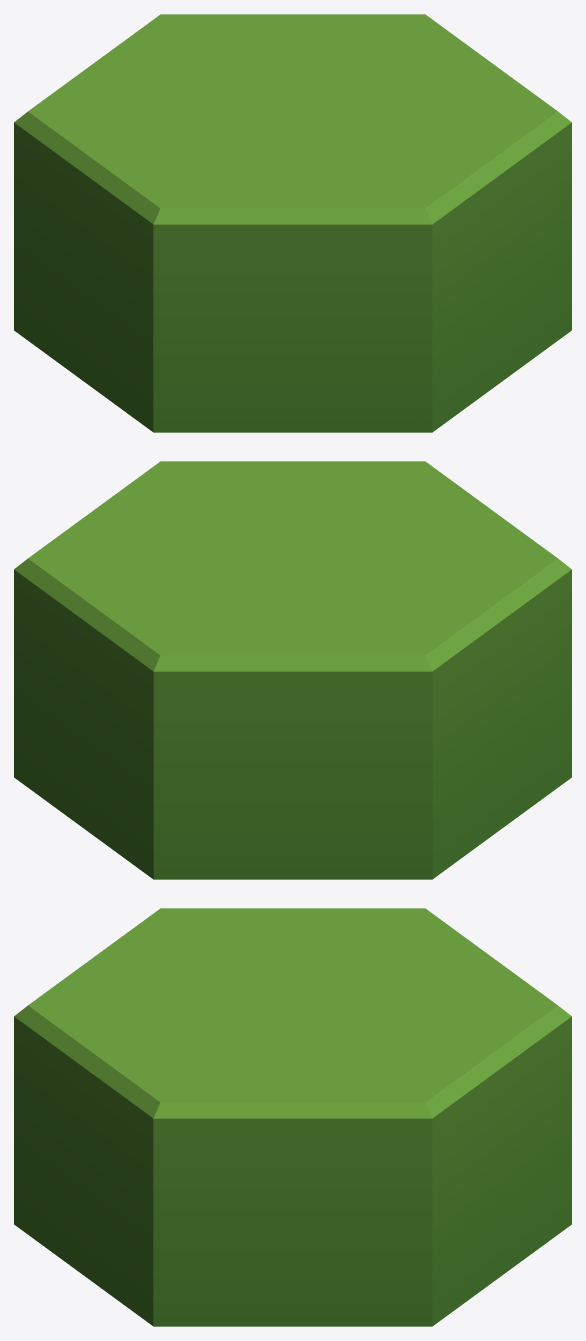
Rendered from phare.glb.
3 views of the same model, one above another, from view 1: azimuth 30°, elevation 25°; view 2: azimuth 150°, elevation 25°; view 3: azimuth 270°, elevation 25° (orthographic).
Visible parts, largest first — view 1: hex_grass; view 2: hex_grass; view 3: hex_grass.
Boxes of the visible parts, x1=… form: hex_grass: x1=14, y1=14, x2=571, y2=432; hex_grass: x1=14, y1=461, x2=571, y2=879; hex_grass: x1=14, y1=908, x2=571, y2=1326.
Size of the model in its own units: 2 by 1 by 2.31.
Materials: 1 (1 with a texture image).
